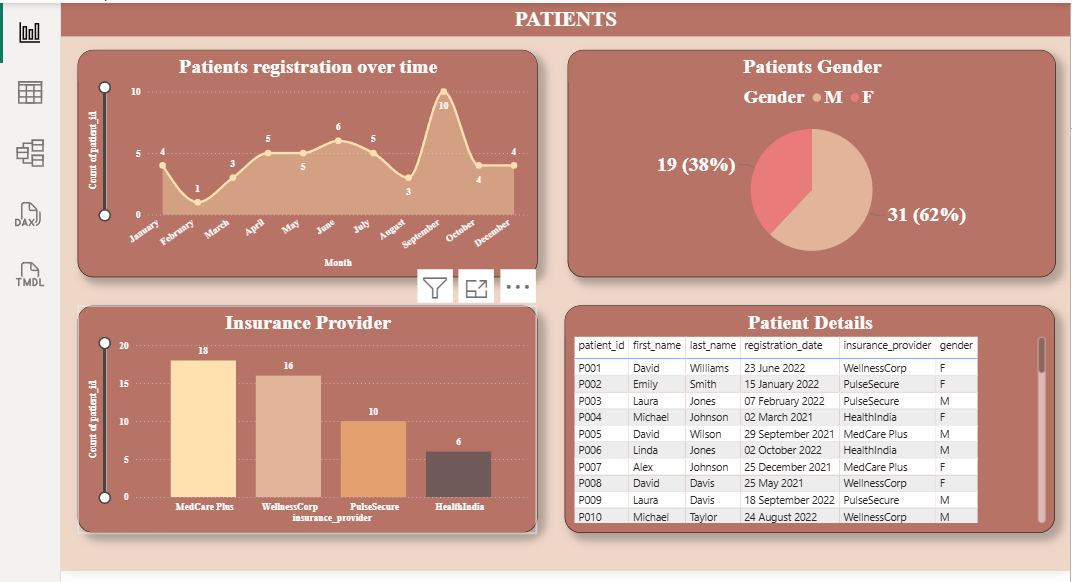

What the dashboard file says about the page in this screenshot:
{"tool":"powerbi","page":{"name":"  Page 4","canvas":[1280,720],"ordinal":3},"visuals":[{"type":"textbox","box":[0,0,1280.3,42.5],"z":0},{"type":"lineChart","title":"Patients registration over time","fields":{"Y":["CountNonNull(Patients.patient_id)"],"Category":["Patients.registration_date.Variation.Date Hierarchy.Month"]},"box":[20.6,60.4,583.2,288.2],"z":1000},{"type":"pieChart","title":"Patients Gender","fields":{"Y":["CountNonNull(Patients.patient_id)"],"Category":["Patients.gender"]},"box":[642.2,60.4,618.9,288.2],"z":2000},{"type":"columnChart","title":"Insurance Provider","fields":{"Category":["Patients.insurance_provider"],"Y":["CountNonNull(Patients.patient_id)"]},"box":[20.6,384.2,583.2,288.2],"z":3000},{"type":"tableEx","title":"Patient Details","fields":{"Values":["Patients.patient_id","Patients.first_name","Patients.last_name","Patients.registration_date","Patients.insurance_provider","Patients.gender"]},"box":[639.5,384.2,621.6,288.2],"z":4000}]}

Visuals, with their boxes on the page's 1280x720 design canvas (x1, y1, x2, y2). These are canvas units, not pixel positions in the 1072x582 screenshot, which may show the page scaled, cropped or inside an application window:
textbox: left=0, top=0, right=1280, bottom=42
"Patients registration over time" lineChart: left=21, top=60, right=604, bottom=349
"Patients Gender" pieChart: left=642, top=60, right=1261, bottom=349
"Insurance Provider" columnChart: left=21, top=384, right=604, bottom=672
"Patient Details" tableEx: left=640, top=384, right=1261, bottom=672
